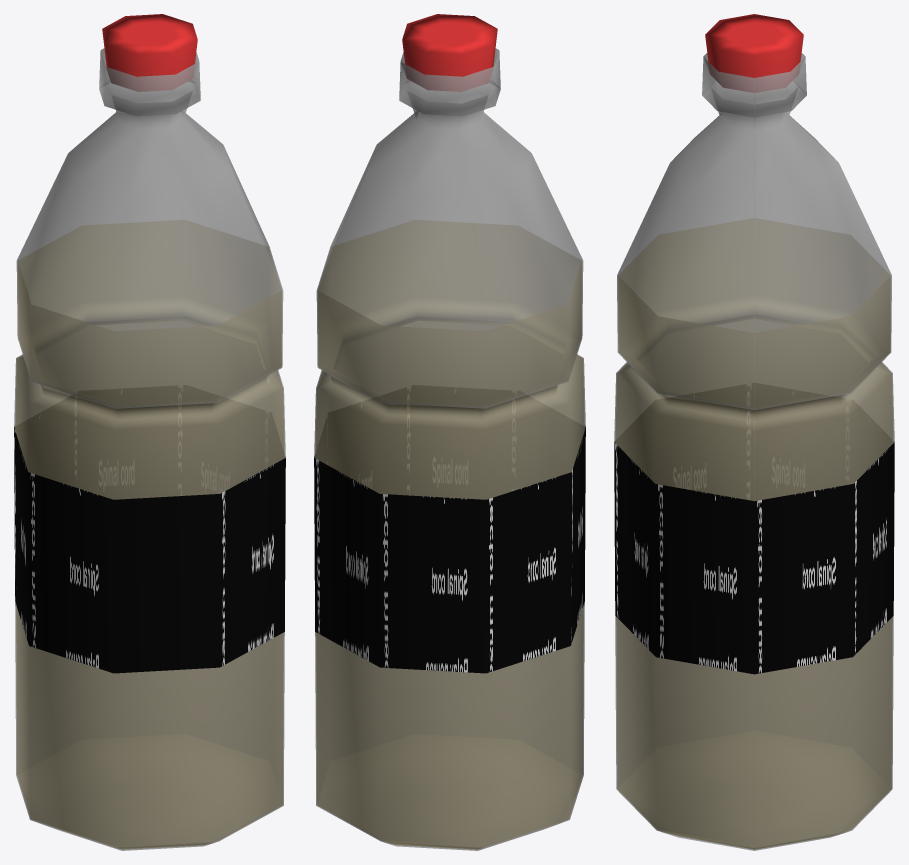
Rendered from oil_bottle.fbx.
The picture shows the model from 3 angles, left to right: view 1: azimuth 30°, elevation 25°; view 2: azimuth 150°, elevation 25°; view 3: azimuth 270°, elevation 25°; orthographic projection.
Parts seen in each view (by area): view 1: polySurface1, polySurface2; view 2: polySurface1, polySurface2; view 3: polySurface1, polySurface2.
Part boxes in pixels (bbox=[...]): polySurface1: bbox=[14, 14, 285, 850]; polySurface2: bbox=[15, 220, 284, 849]; polySurface1: bbox=[314, 14, 585, 850]; polySurface2: bbox=[315, 220, 584, 849]; polySurface1: bbox=[614, 14, 894, 850]; polySurface2: bbox=[616, 218, 892, 849].
Size of the model in its own units: 25.92 by 78.59 by 25.92.
